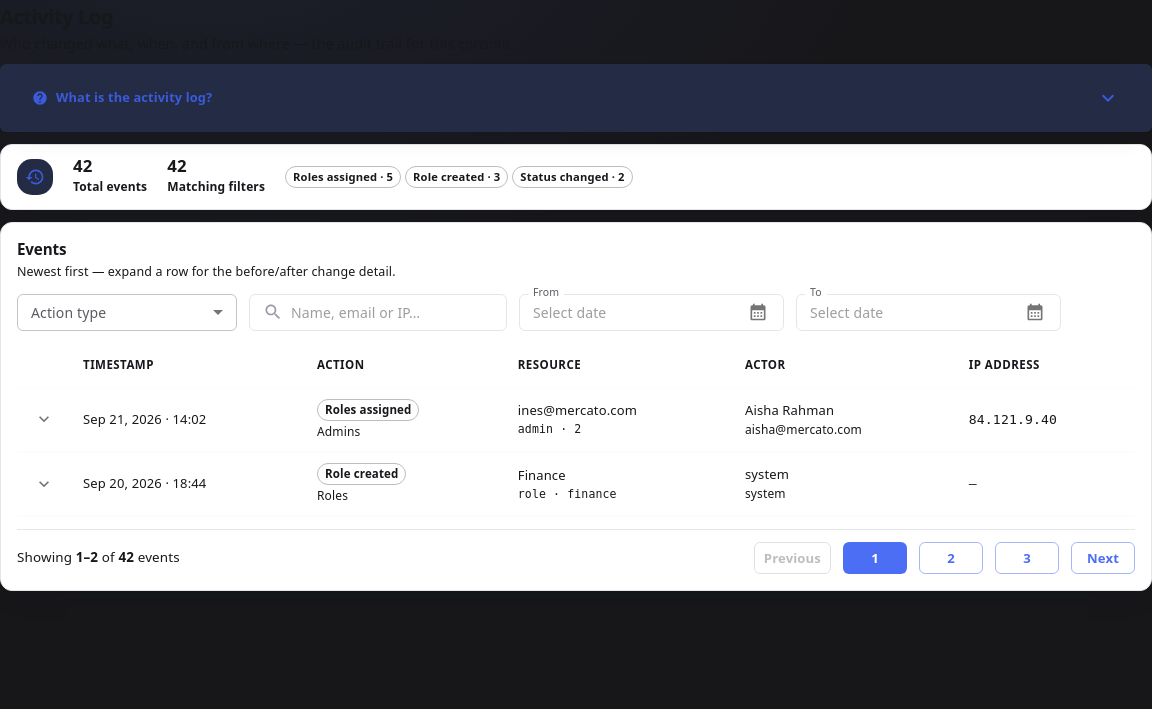
Scenario: ActivityView (live API wiring) › expanding a row shows the before/after diff plus request ID
This screenshot has width=1152, height=709.
Check: the text "ines@mercato.com" is shown, box [518,401,637,419]
Click the button named "Expand details for Roles assigned" at (44, 419), box [29,404,59,434]
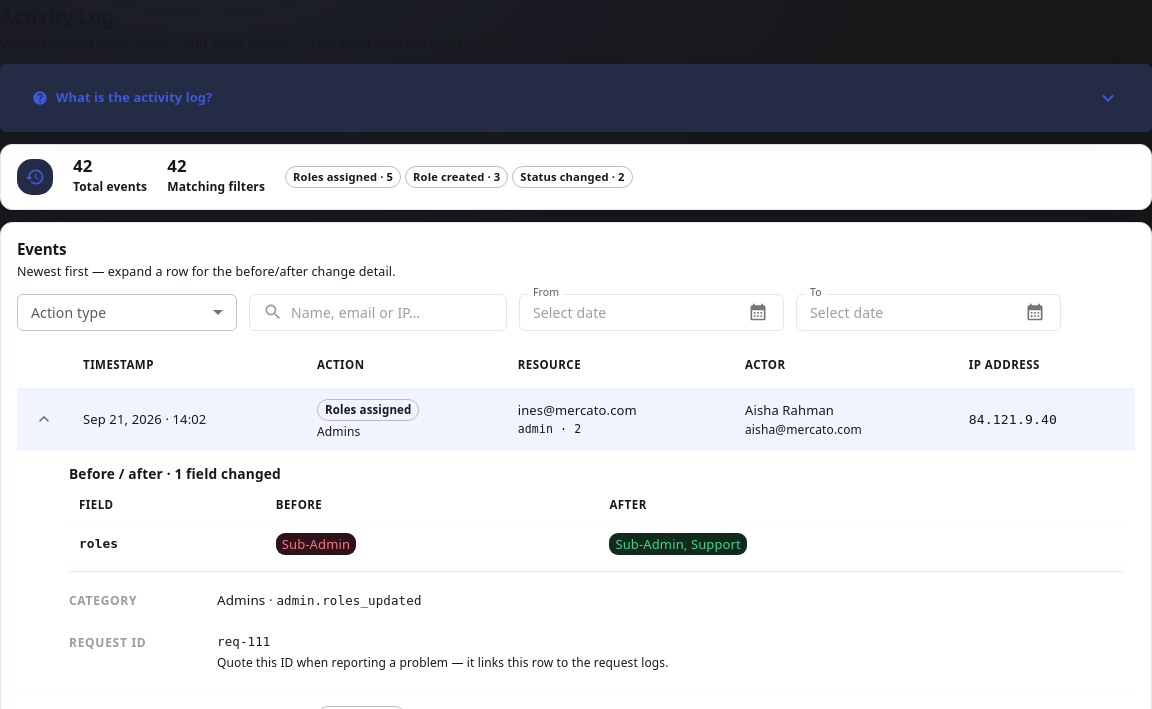
Check: the text "Sub-Admin, Support" is shown, box [609,532,747,554]
Check: the text "Sub-Admin" is shown, box [276,532,356,554]
Check: the text "req-111" is shown, box [217,634,270,649]
